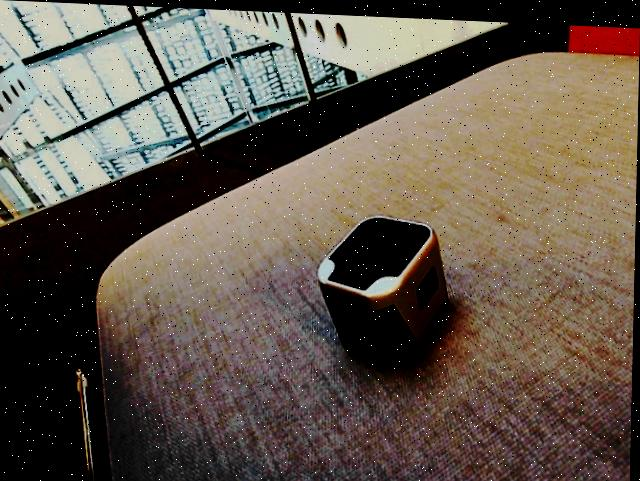adapter: (316, 208, 451, 363)
